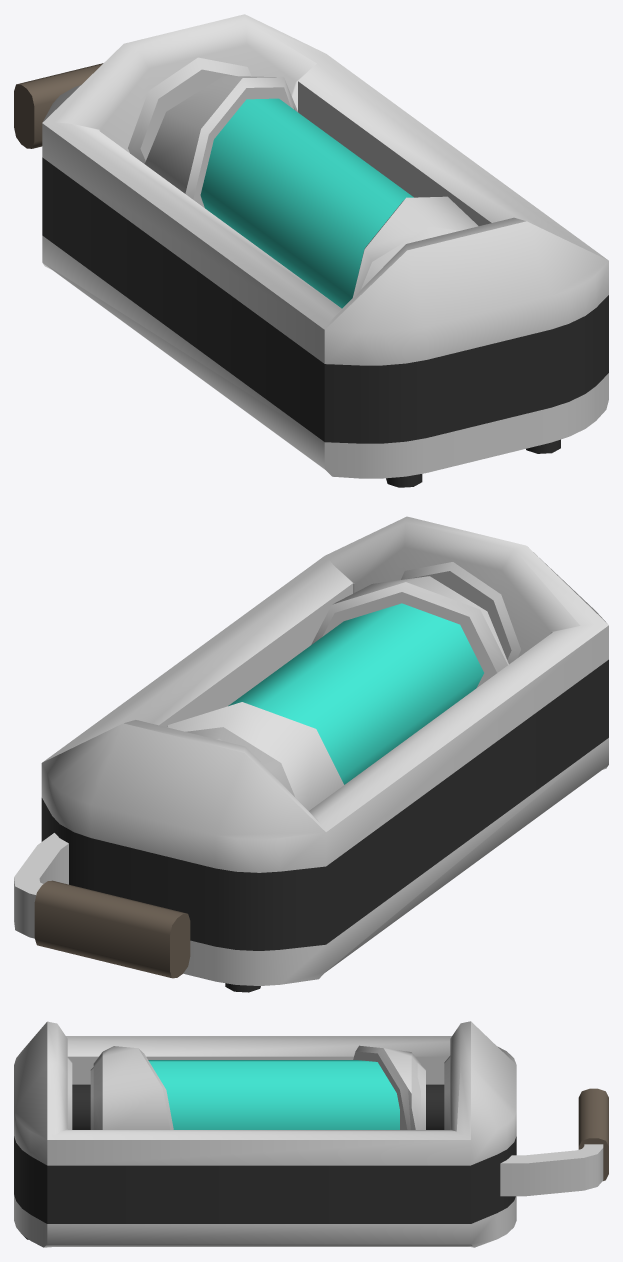
The model's file is Ammo placeholder.fbx.
3 renders of one model, top to bottom at view 1: azimuth 30°, elevation 25°; view 2: azimuth 150°, elevation 25°; view 3: azimuth 270°, elevation 25°, orthographic. The views are drawn at different scales.
Visible parts, largest first — view 1: Cylinder; view 2: Cylinder; view 3: Cylinder.
Part boxes in pixels (<box>): Cylinder: <box>14,14,608,487</box>; Cylinder: <box>14,516,608,992</box>; Cylinder: <box>14,1021,608,1247</box>.
Bounding box in the file's own units: 0.1788 × 0.1336 × 0.4324.
